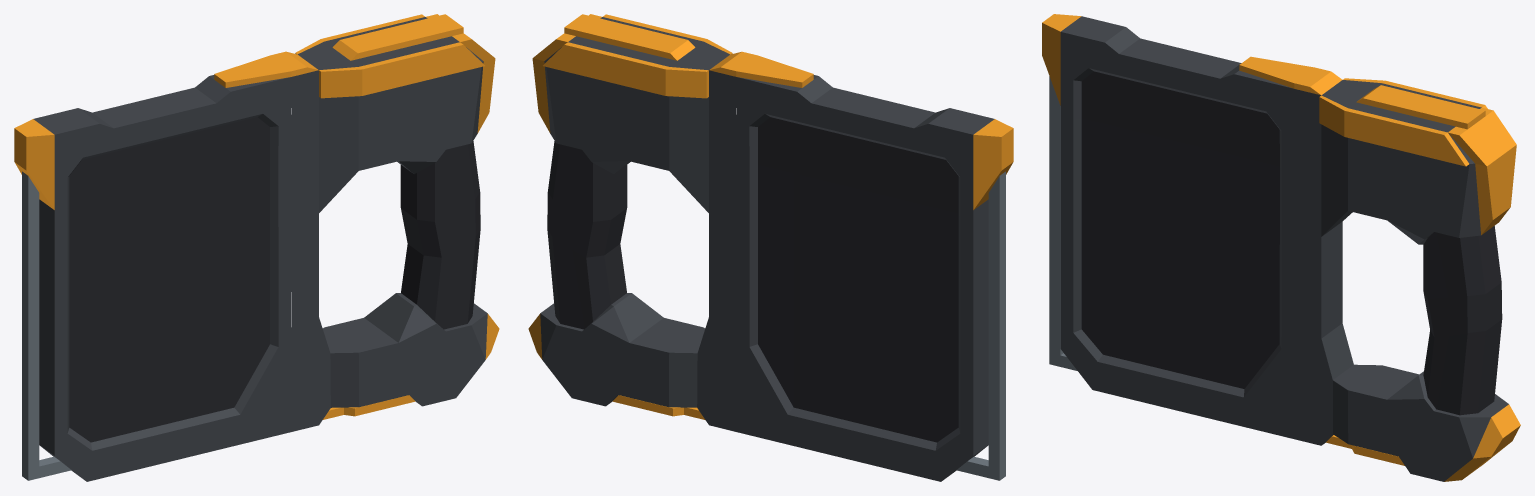
File: SM_Control_Panel.glb
3 renders of one model, left to right at view 1: azimuth 30°, elevation 25°; view 2: azimuth 150°, elevation 25°; view 3: azimuth 330°, elevation 25°, orthographic.
Visible parts, largest first — view 1: SM_Control_Panel; view 2: SM_Control_Panel; view 3: SM_Control_Panel.
Part boxes in pixels (x1,y1,x2,y2): SM_Control_Panel: (14,14,499,481); SM_Control_Panel: (528,14,1013,481); SM_Control_Panel: (1042,14,1520,481).
Bounding box in the file's own units: 0.2925 × 0.2146 × 0.0448.
Materials: 1 (1 with a texture image).
